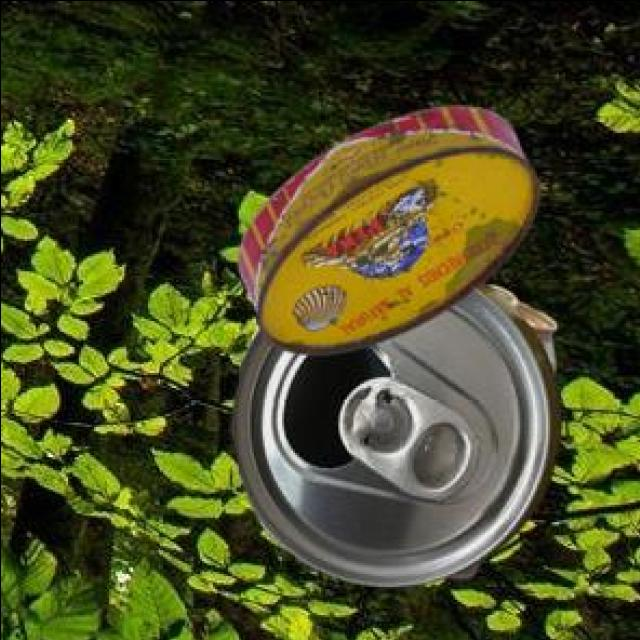logam: (232, 284, 563, 589), (241, 109, 542, 358), (449, 289, 559, 581)
